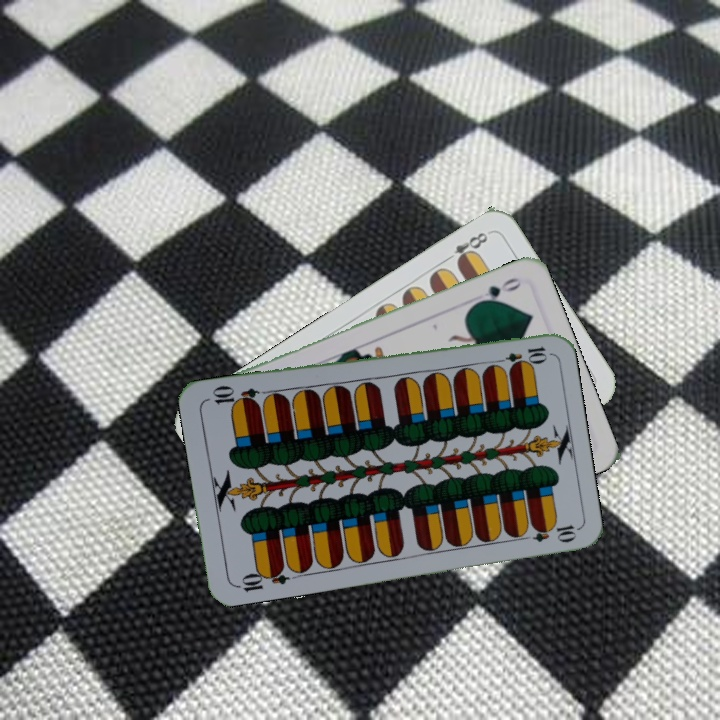E10: (232, 562, 291, 595), (490, 342, 550, 368)
E8: (440, 228, 491, 268)
GO: (470, 273, 525, 308)
